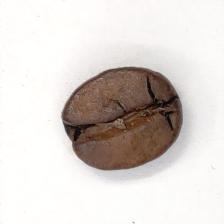NG: (77, 88, 179, 146)
